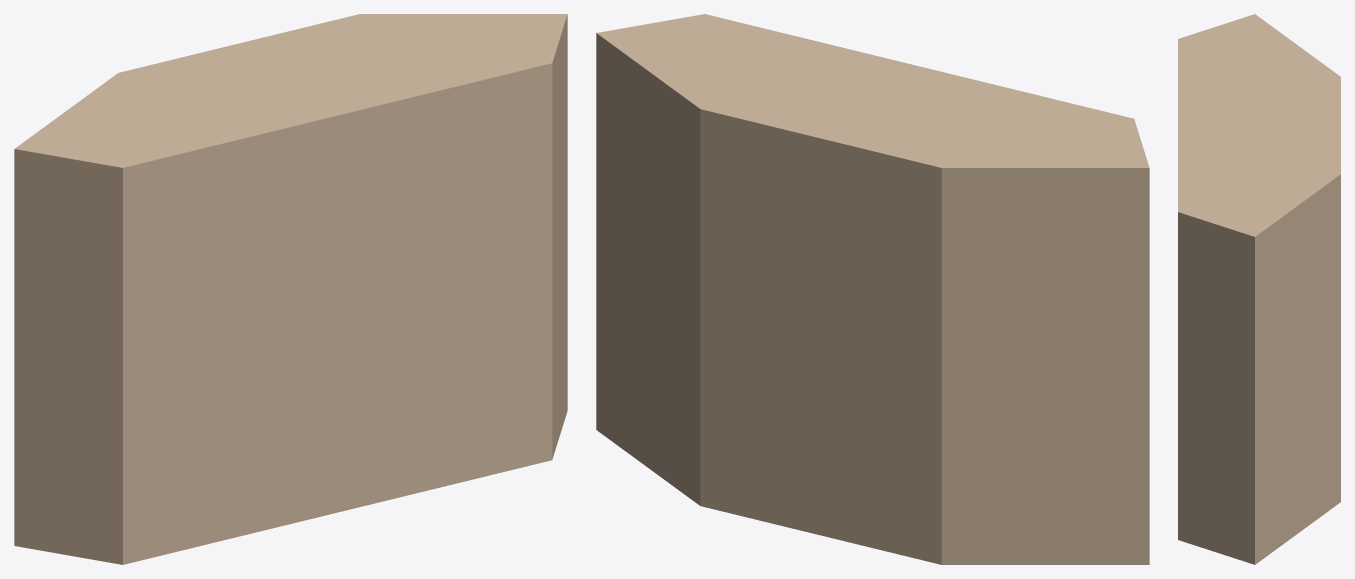
The model's file is rad_collider.obj.
The picture shows the model from 3 angles, left to right: view 1: azimuth 30°, elevation 25°; view 2: azimuth 150°, elevation 25°; view 3: azimuth 270°, elevation 25°; orthographic projection. The views are drawn at different scales.
Visible parts, largest first — view 1: c; view 2: c; view 3: c.
Part boxes in pixels (x1=…): c: x1=14, y1=14, x2=567, y2=564; c: x1=596, y1=14, x2=1149, y2=564; c: x1=1178, y1=14, x2=1340, y2=564.
Size of the model in its own units: 1.46 by 1 by 0.4501.
